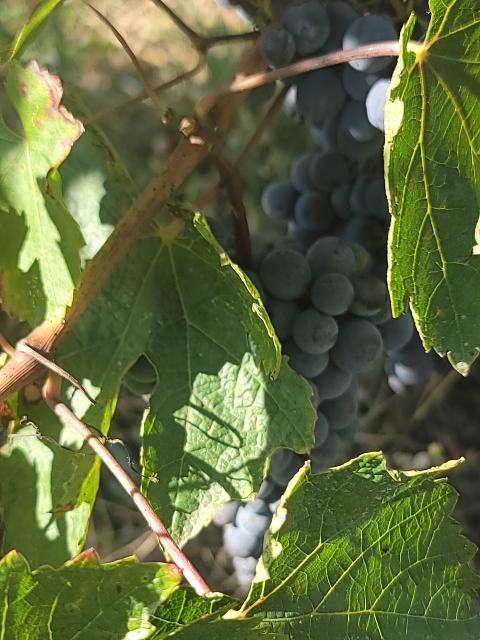grapes: (214, 236, 390, 589), (262, 56, 395, 258), (260, 1, 398, 69)
